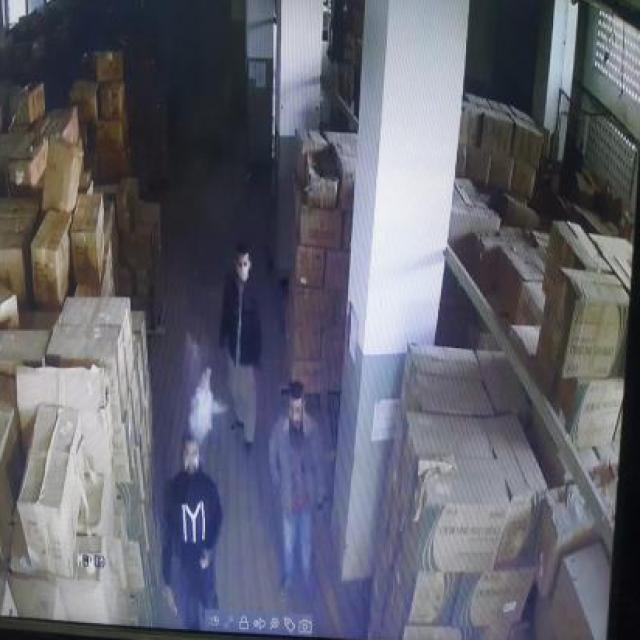fire: (190, 362, 223, 449)
